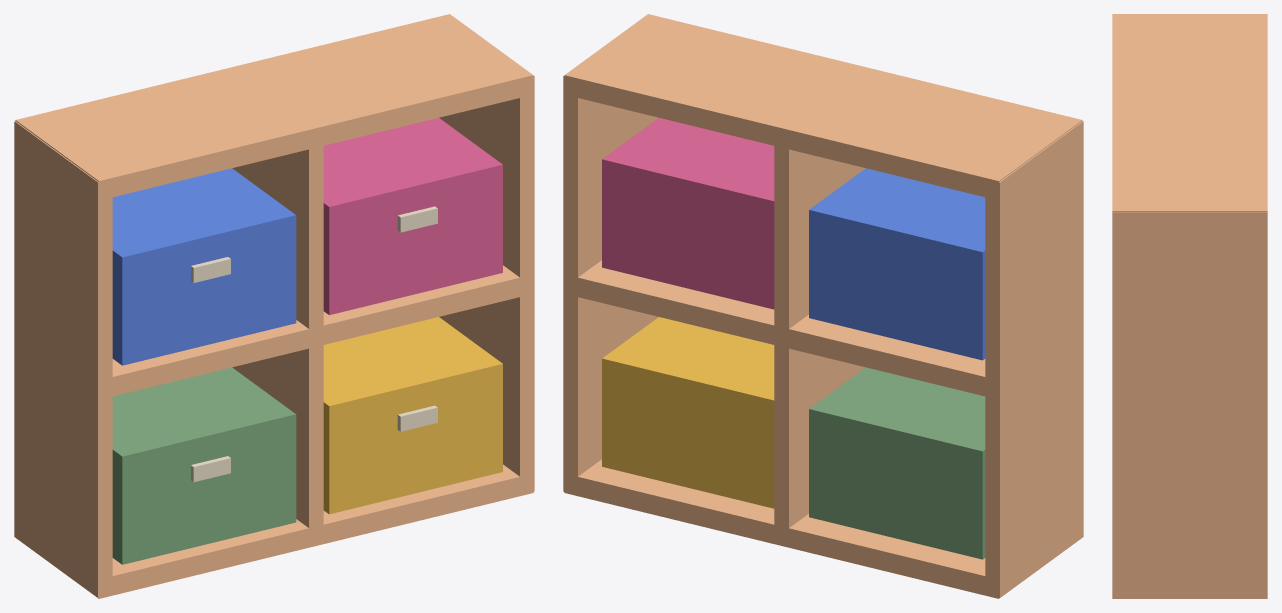
3 renders of one model, left to right at view 1: azimuth 30°, elevation 25°; view 2: azimuth 150°, elevation 25°; view 3: azimuth 270°, elevation 25°, orthographic. The views are drawn at different scales.
Parts seen in each view (by area): view 1: Cubbies shelf.002, Cubbies divider, Storage bin, Storage bin.002, Storage bin.003, Storage bin.001, Cubbies divider.002, Cubbies divider.001, Cubbies shelf.001, Cubbies shelf, Bin handle.001, Bin handle.003 (+2 smaller); view 2: Cubbies shelf.002, Cubbies divider, Storage bin.002, Storage bin, Storage bin.003, Storage bin.001, Cubbies divider.002, Cubbies divider.001, Cubbies shelf, Cubbies shelf.001; view 3: Cubbies divider.002, Cubbies shelf.002.
Part boxes in pixels (x1,y1,x2,y2): Cubbies shelf.002: (15,14,533,200); Cubbies divider: (14,121,112,597); Storage bin: (112,367,296,564); Storage bin.002: (112,168,296,365); Storage bin.003: (323,118,502,315); Storage bin.001: (323,317,502,514); Cubbies divider.002: (439,76,534,494); Cubbies divider.001: (232,146,323,546); Cubbies shelf.001: (99,265,519,396); Cubbies shelf: (98,464,533,598); Bin handle.001: (397,405,437,431); Bin handle.003: (397,206,437,232); Cubbies shelf.002: (564,14,1082,196); Cubbies divider: (985,121,1083,597); Storage bin.002: (809,168,985,360); Storage bin: (809,367,985,559); Storage bin.003: (602,118,774,309); Storage bin.001: (602,317,774,508); Cubbies divider.002: (563,76,658,491); Cubbies divider.001: (774,127,865,528); Cubbies shelf: (564,459,999,598); Cubbies shelf.001: (566,260,998,399); Cubbies divider.002: (1112,212,1267,598); Cubbies shelf.002: (1112,14,1267,211).
Size of the model in its own units: 106 by 96.5 by 35.
